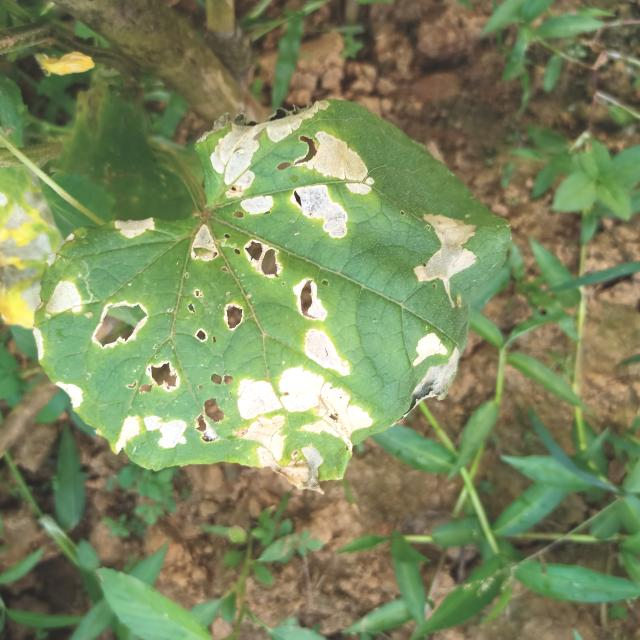disease_cucumber: (70, 97, 472, 469)
